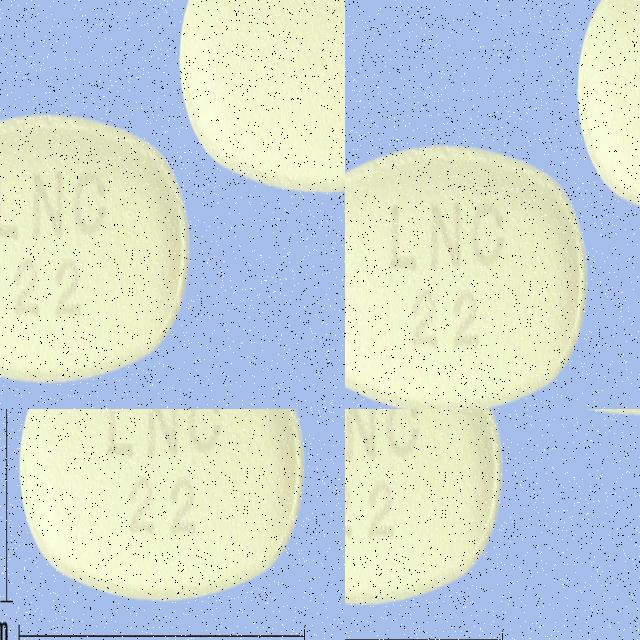Lefoxacin: (38, 215, 187, 409)
Lefoxin: (345, 0, 549, 409), (585, 0, 640, 409)
Levona -500mg: (17, 409, 265, 608)
Rofsin Tab: (345, 409, 503, 604)
